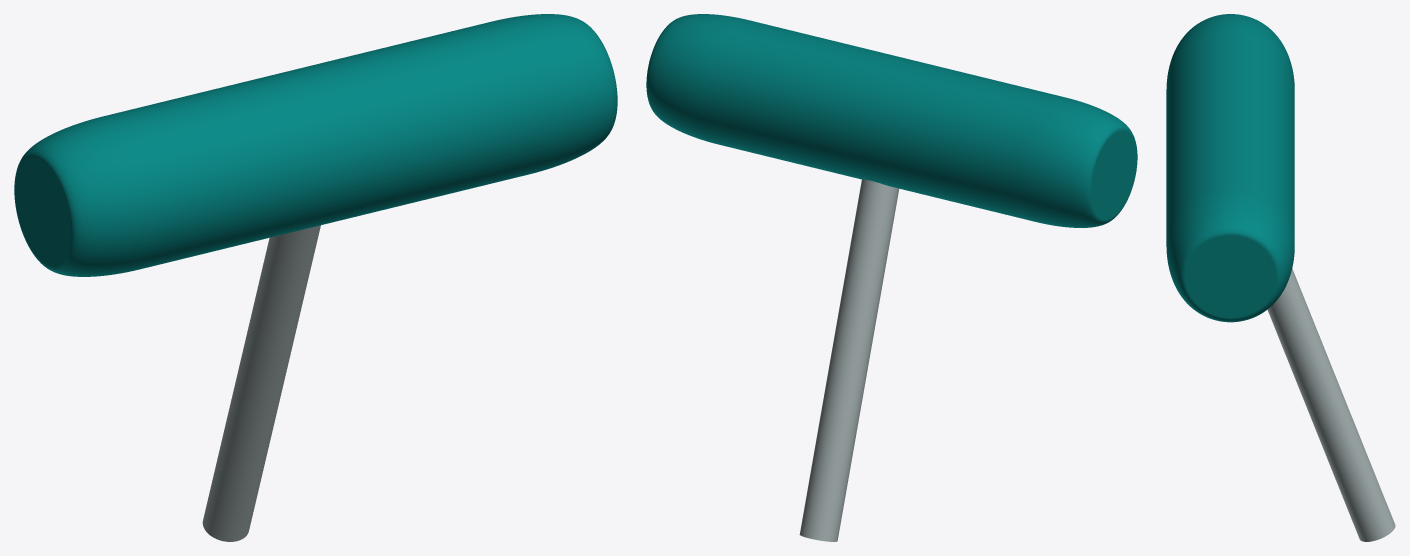
File: Lever_Petronas.glb
The picture shows the model from 3 angles, left to right: view 1: azimuth 30°, elevation 25°; view 2: azimuth 150°, elevation 25°; view 3: azimuth 270°, elevation 25°; orthographic projection. The views are drawn at different scales.
Parts seen in each view (by area): view 1: Lever Top, Lever Body; view 2: Lever Top, Lever Body; view 3: Lever Top, Lever Body.
Part boxes in pixels (bbox=[...]): Lever Top: bbox=[14, 14, 617, 276]; Lever Body: bbox=[202, 225, 320, 541]; Lever Top: bbox=[646, 14, 1137, 227]; Lever Body: bbox=[799, 179, 899, 541]; Lever Top: bbox=[1166, 14, 1294, 322]; Lever Body: bbox=[1267, 268, 1395, 541].
Size of the model in its own units: 0.2 by 0.1839 by 0.0892.
